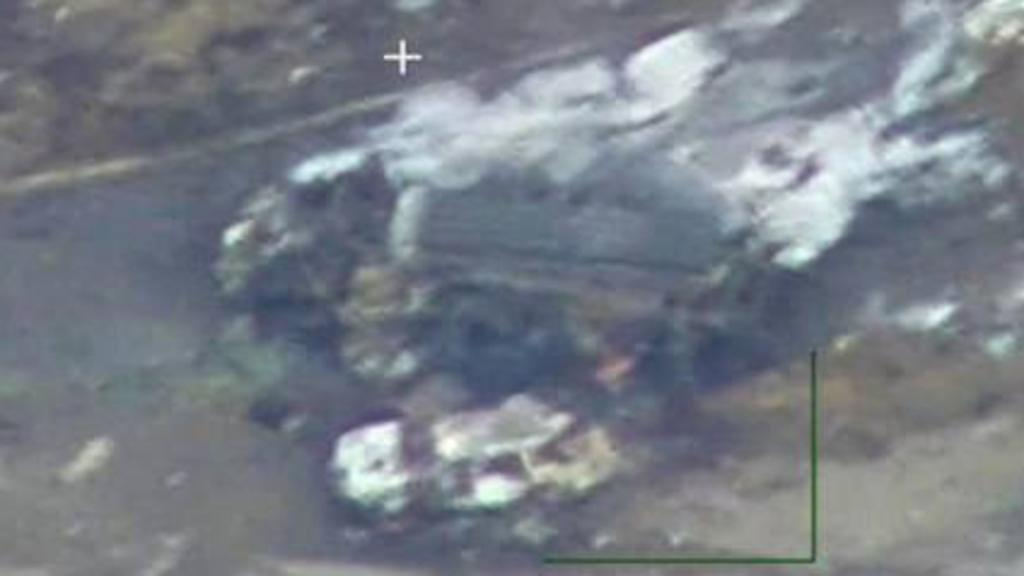CAR: (318, 394, 612, 528)
MLRS: (238, 172, 726, 364)
